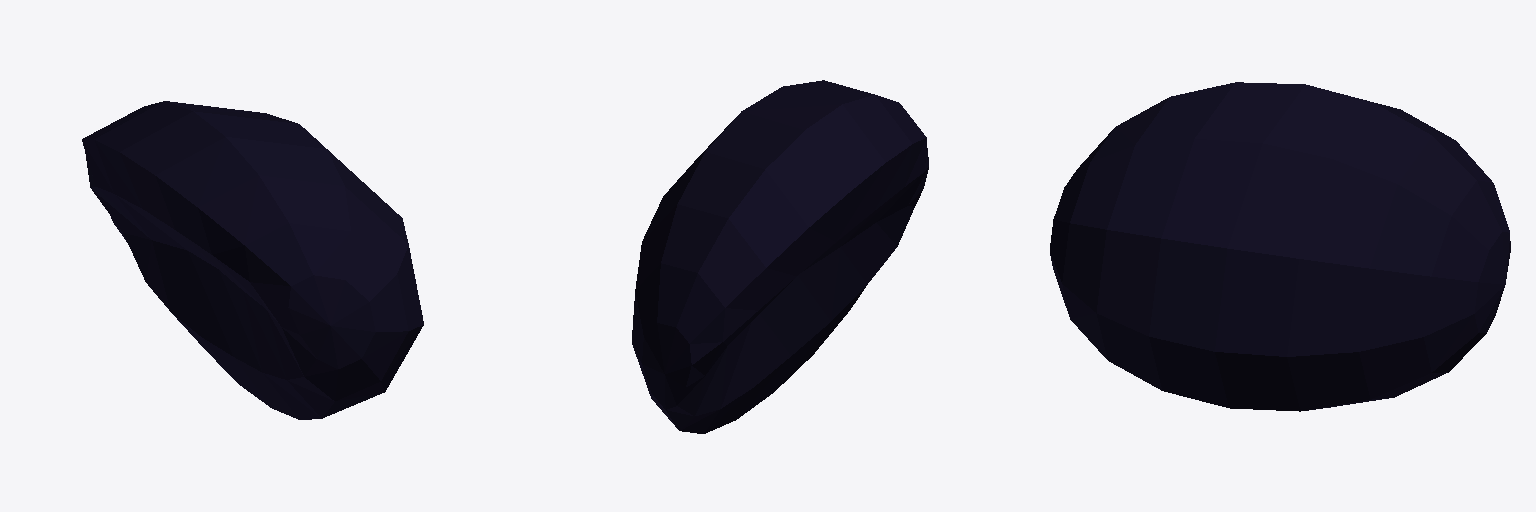
The model's file is Spleen_gastro.obj.
3 renders of one model, left to right at view 1: azimuth 30°, elevation 25°; view 2: azimuth 150°, elevation 25°; view 3: azimuth 270°, elevation 25°, orthographic.
Parts seen in each view (by area): view 1: Spleen_gastro_spleen.000; view 2: Spleen_gastro_spleen.000; view 3: Spleen_gastro_spleen.000.
Part boxes in pixels (x1,y1,x2,y2): Spleen_gastro_spleen.000: (82, 101, 423, 419); Spleen_gastro_spleen.000: (632, 80, 928, 433); Spleen_gastro_spleen.000: (1050, 82, 1510, 411).
Size of the model in its own units: 3.02 by 3.91 by 5.52.